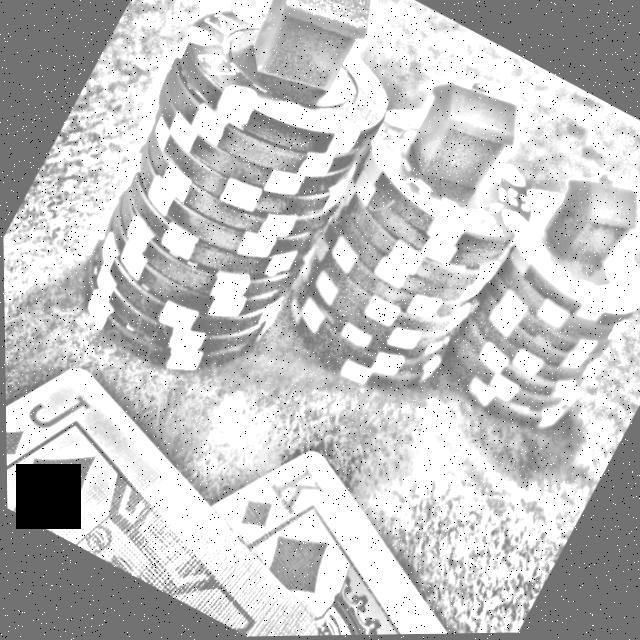Chip: (30, 0, 419, 418), (239, 79, 558, 429), (416, 170, 640, 463)
